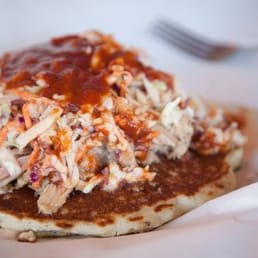sandwich: (0, 26, 256, 235)
